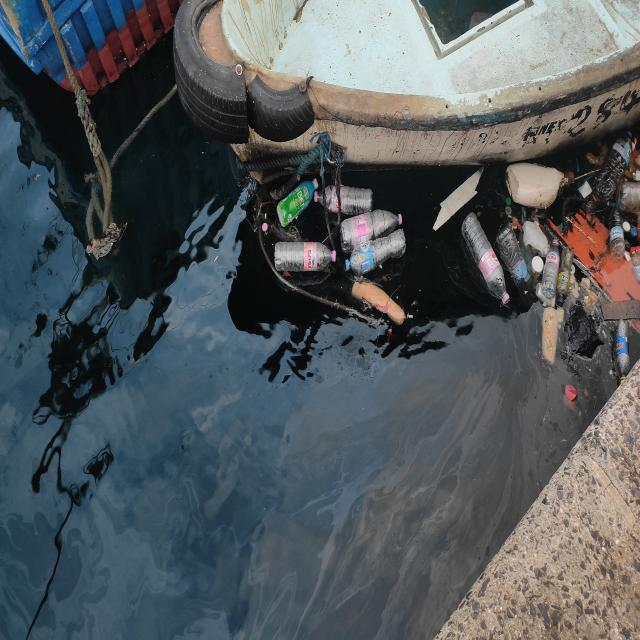Bottle cap: (623, 220, 631, 234), (630, 227, 638, 238), (505, 195, 512, 207), (505, 206, 512, 216)
Plastic: (432, 163, 484, 232), (562, 384, 578, 412), (577, 180, 593, 200), (530, 255, 544, 276)
Plastic bag: (558, 299, 605, 379), (522, 219, 548, 258)
Plastic bottle: (460, 210, 510, 306), (495, 218, 540, 314), (503, 161, 578, 212), (592, 128, 633, 207), (338, 207, 403, 256), (344, 227, 407, 274), (313, 180, 375, 219), (275, 176, 320, 229), (272, 240, 338, 274), (540, 238, 561, 301), (607, 200, 626, 265), (613, 318, 631, 382), (556, 246, 574, 306), (615, 178, 640, 214)
Plastic cup: (535, 281, 557, 308), (570, 262, 576, 276)
Plastic packaging: (583, 294, 592, 307)
Wood: (546, 205, 640, 333)
